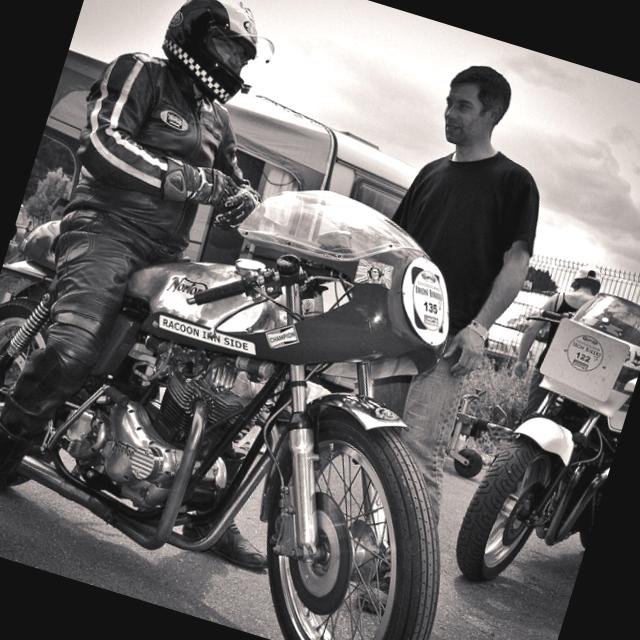Vehicle: (0, 106, 547, 640), (442, 264, 640, 617), (477, 281, 558, 383)
